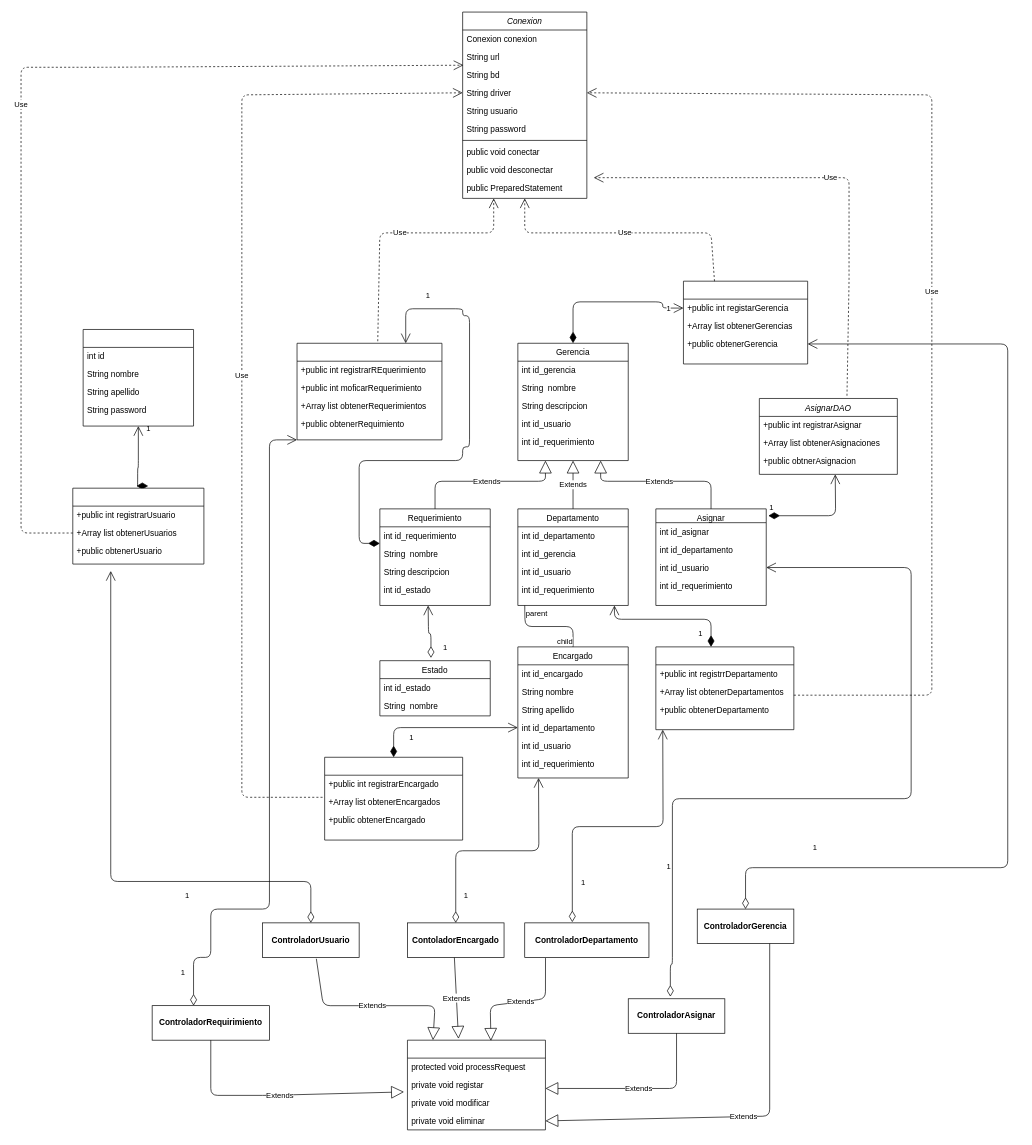
This 1032x1145 diagram has some shape labels left out. Here are the shapes that lost their labels. From the top down, the box of each, then its label:
(683, 280, 808, 364): GerenciaDAO
(82, 329, 194, 426): Usuario
(296, 343, 442, 440): RequerimiientoDAO
(72, 487, 204, 564): UsuarioDAO
(655, 646, 794, 730): DepartamentoDAO
(324, 757, 463, 840): EncargadoDAO
(407, 1039, 545, 1130): Controladores
